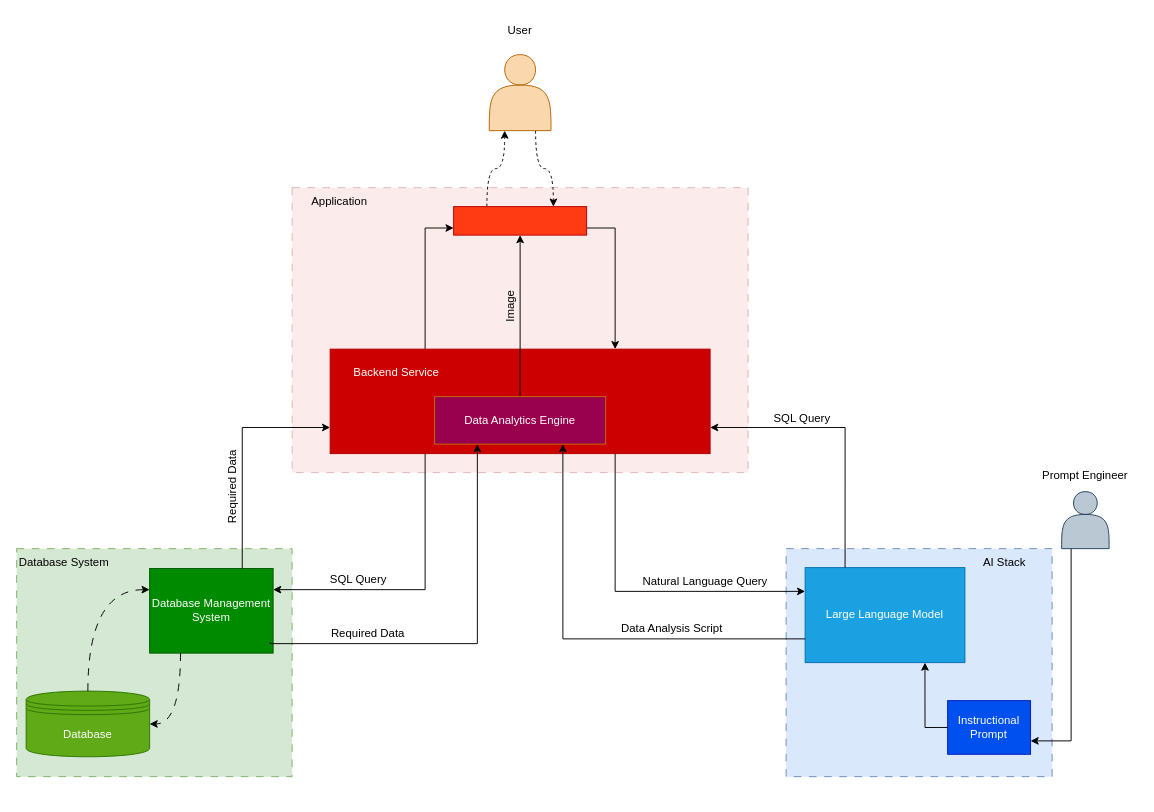
This 1154x812 diagram has some shape labels left out. The box of each missing label's shape, as (x1, y1, x2, y2) in pixels:
AI: (785, 548, 1052, 777)
Frontend User Interface: (453, 206, 587, 235)
